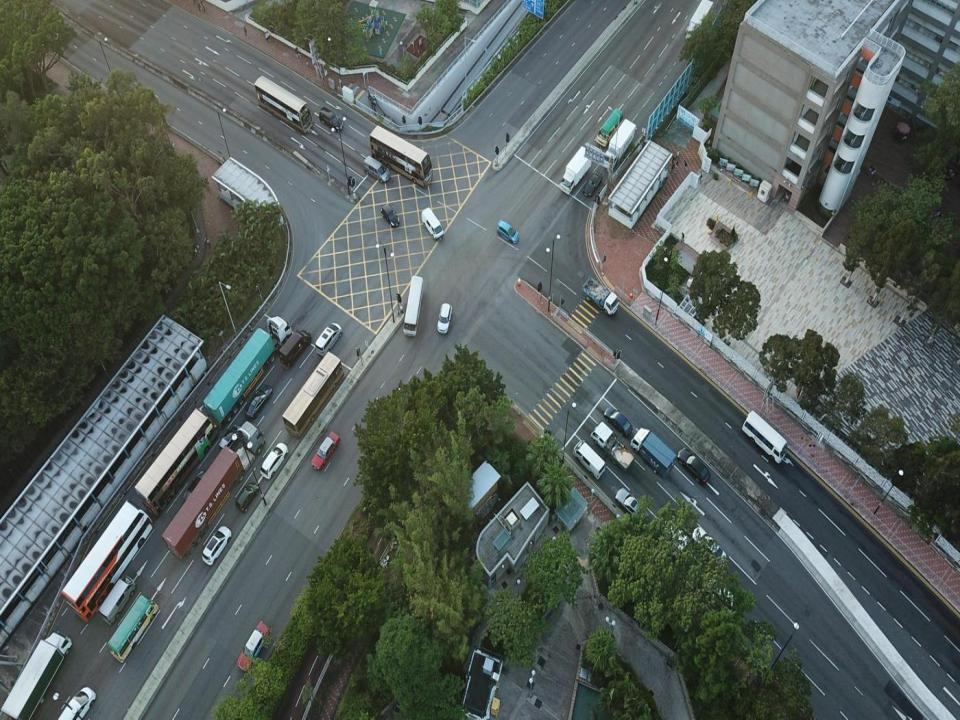bus: (60, 500, 153, 623), (134, 409, 216, 516), (281, 351, 344, 438), (369, 125, 435, 189), (108, 594, 158, 663), (255, 75, 313, 132), (741, 410, 788, 463), (403, 275, 424, 337), (594, 107, 622, 146)
car: (236, 620, 269, 672), (692, 526, 727, 566), (57, 687, 97, 718), (615, 486, 648, 522), (201, 527, 232, 565), (678, 448, 711, 483), (312, 431, 340, 471), (260, 442, 288, 479), (245, 386, 272, 420), (316, 323, 342, 358), (183, 470, 209, 505), (604, 406, 632, 438), (663, 521, 690, 552), (710, 581, 736, 610), (235, 482, 259, 512), (319, 106, 343, 131), (497, 220, 519, 244), (582, 171, 601, 197), (380, 202, 400, 226), (219, 425, 239, 449), (438, 304, 451, 334)
truck: (162, 420, 266, 560), (203, 314, 292, 427), (1, 632, 72, 719), (629, 427, 677, 478), (590, 422, 635, 473), (558, 146, 591, 195), (604, 119, 636, 167), (582, 276, 619, 317)
van: (100, 576, 136, 625), (573, 439, 606, 480), (279, 329, 312, 366), (363, 154, 391, 182), (421, 208, 444, 240)
